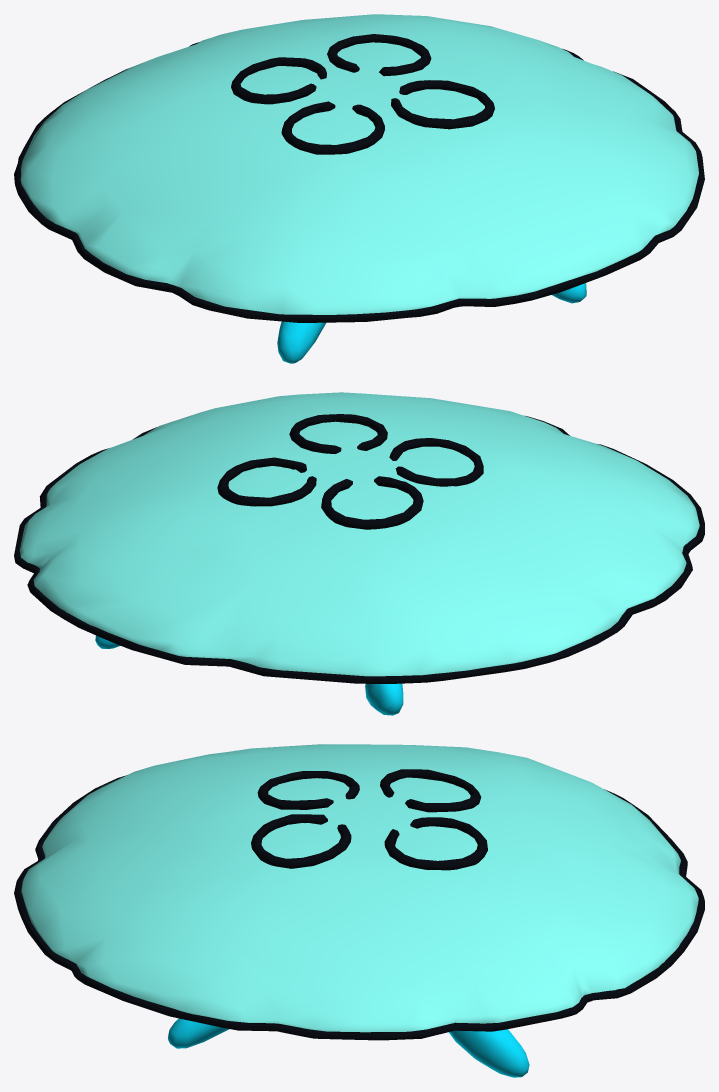
File: jelly_web.glb
The picture shows the model from 3 angles, top to bottom: view 1: azimuth 30°, elevation 25°; view 2: azimuth 150°, elevation 25°; view 3: azimuth 270°, elevation 25°; orthographic projection. The views are drawn at different scales.
Visible parts, largest first — view 1: jelly10; view 2: jelly10; view 3: jelly10.
Boxes of the visible parts, x1=… form: jelly10: x1=14, y1=14, x2=704, y2=363; jelly10: x1=14, y1=392, x2=704, y2=715; jelly10: x1=14, y1=744, x2=704, y2=1077.
Bounding box in the file's own units: 1.36 × 0.3979 × 1.36.
